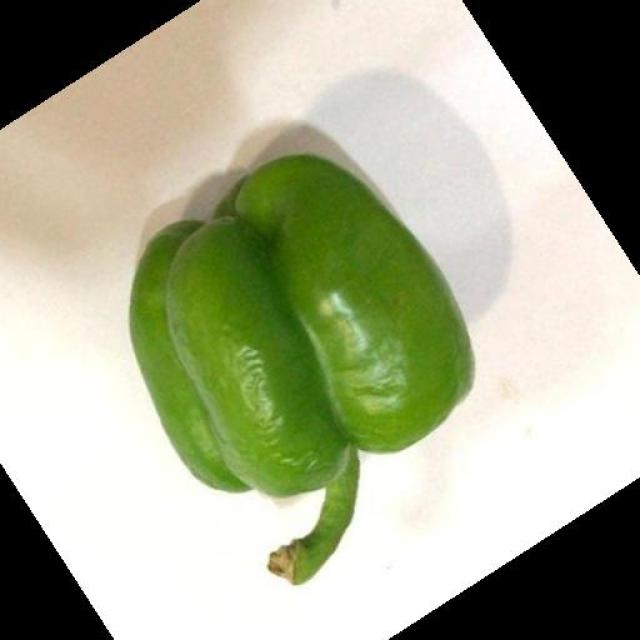Fresh_Capsicum: (120, 164, 469, 540)
